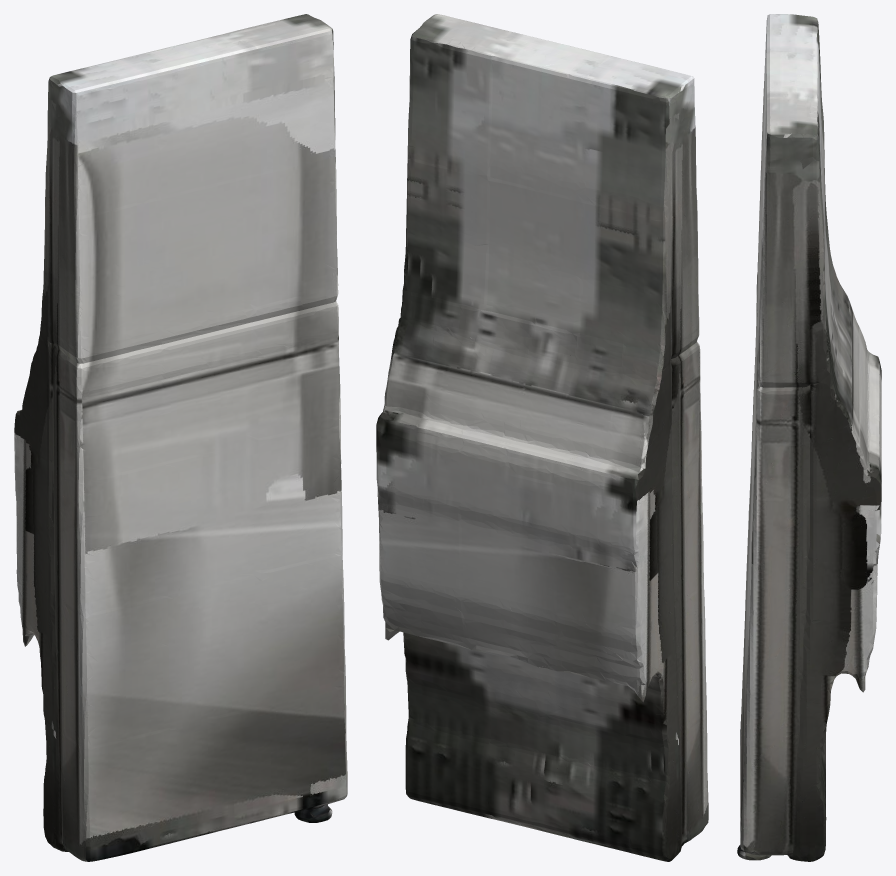
Rendered from living-03-refrigerator.glb.
3 views of the same model, side by side, from view 1: azimuth 30°, elevation 25°; view 2: azimuth 150°, elevation 25°; view 3: azimuth 270°, elevation 25° (orthographic). The views are drawn at different scales.
Visible parts, largest first — view 1: geometry_0; view 2: geometry_0; view 3: geometry_0.
Part boxes in pixels (bbox=[...]): geometry_0: bbox=[14, 14, 347, 861]; geometry_0: bbox=[376, 14, 708, 861]; geometry_0: bbox=[737, 14, 881, 861].
Bounding box in the file's own units: 0.542 × 1.53 × 0.2721.
1 material, 1 textured.
